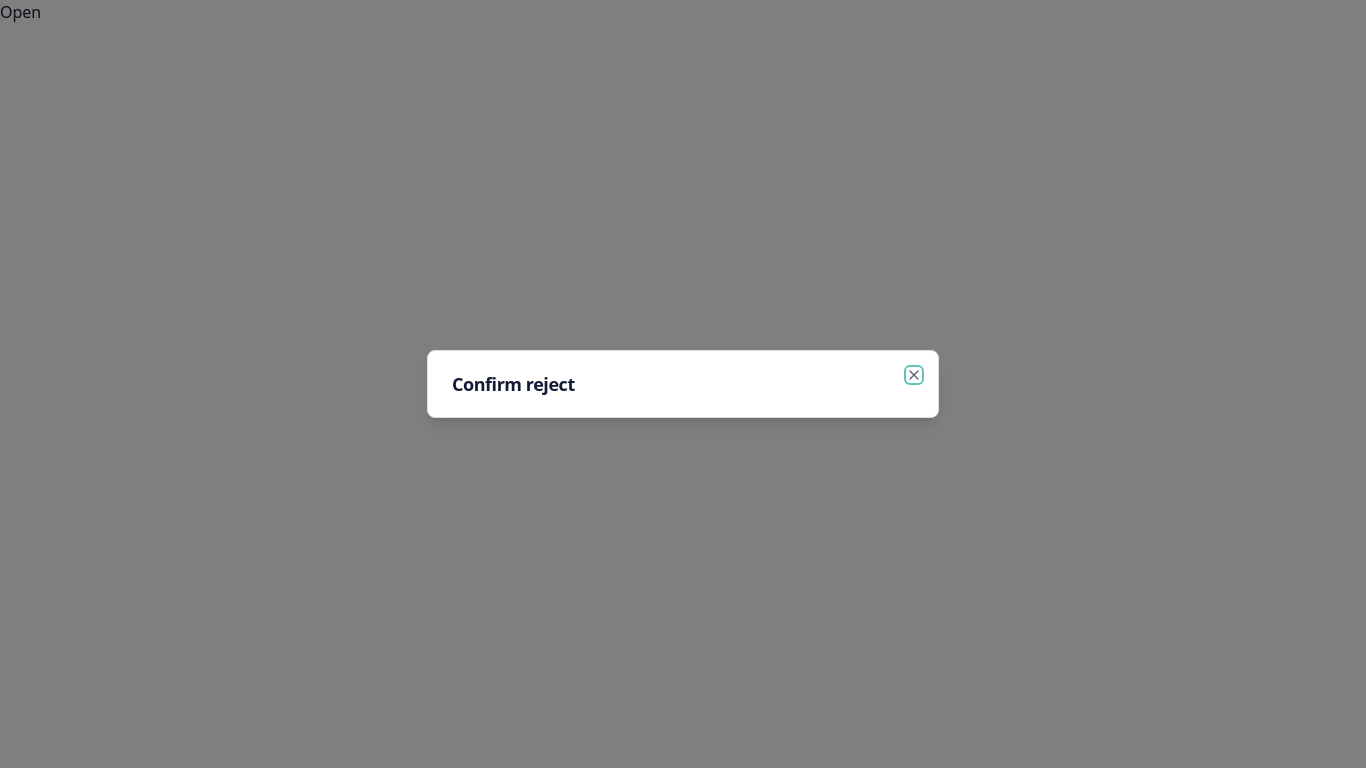
Test: FR-23: Escape-with-unsaved-changes guard › Dialog shows a discard-confirm on Escape (and does not close) when there are unsaved changes, then closes on explicit Discard
Press Escape
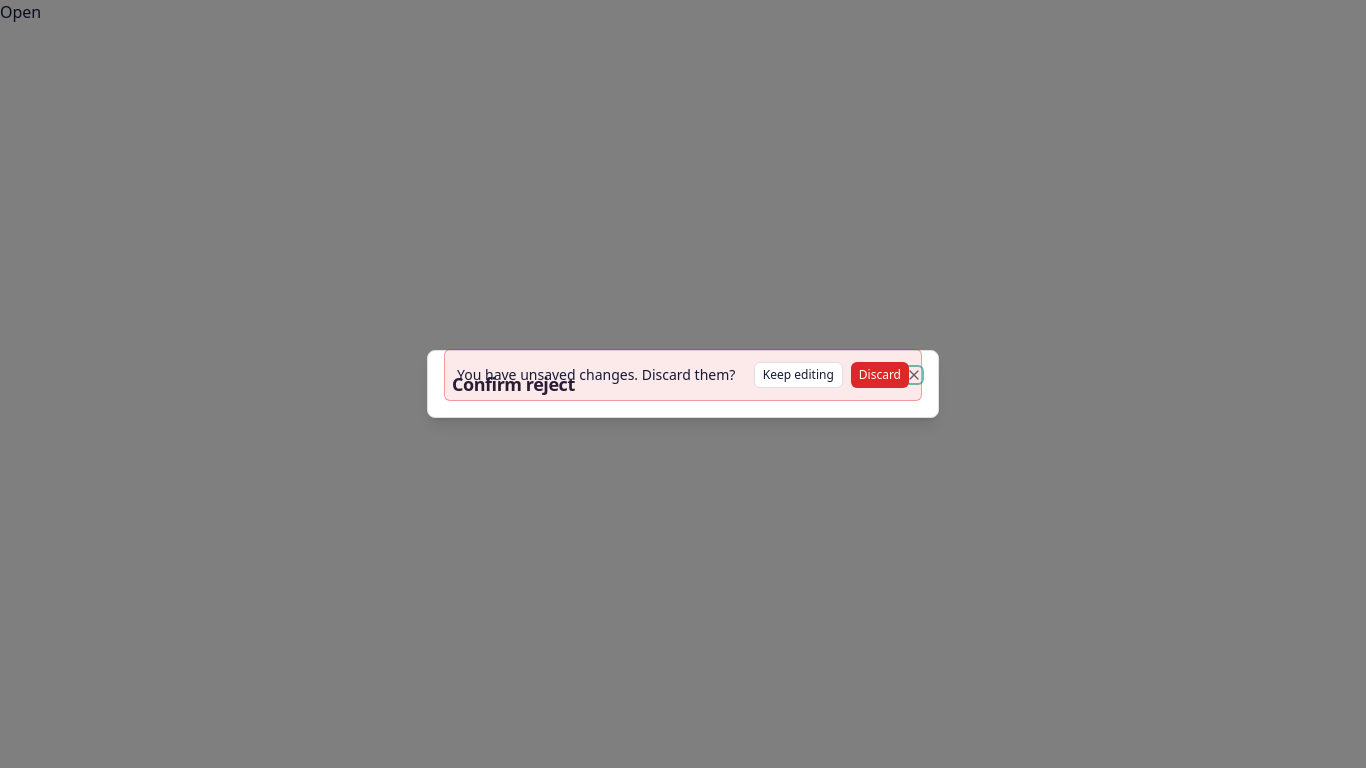
Check: the heading "Confirm reject" is shown, box [452,372,575,396]
Check: the dialog named "Discard unsaved changes?" is shown, box [444,349,922,401]
Click the button "Discard". click: (880, 375)
box: [851,362,909,388]
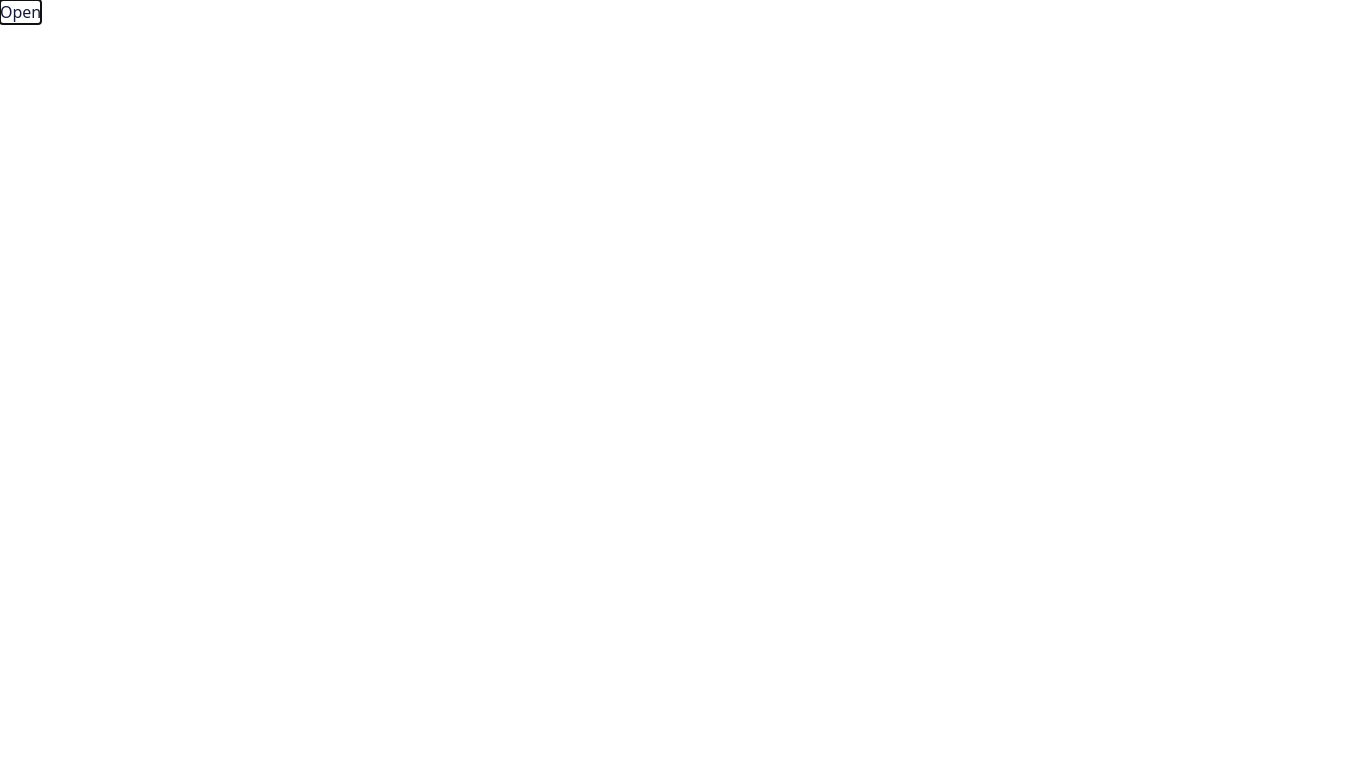
Check: the heading "Confirm reject" is gone
